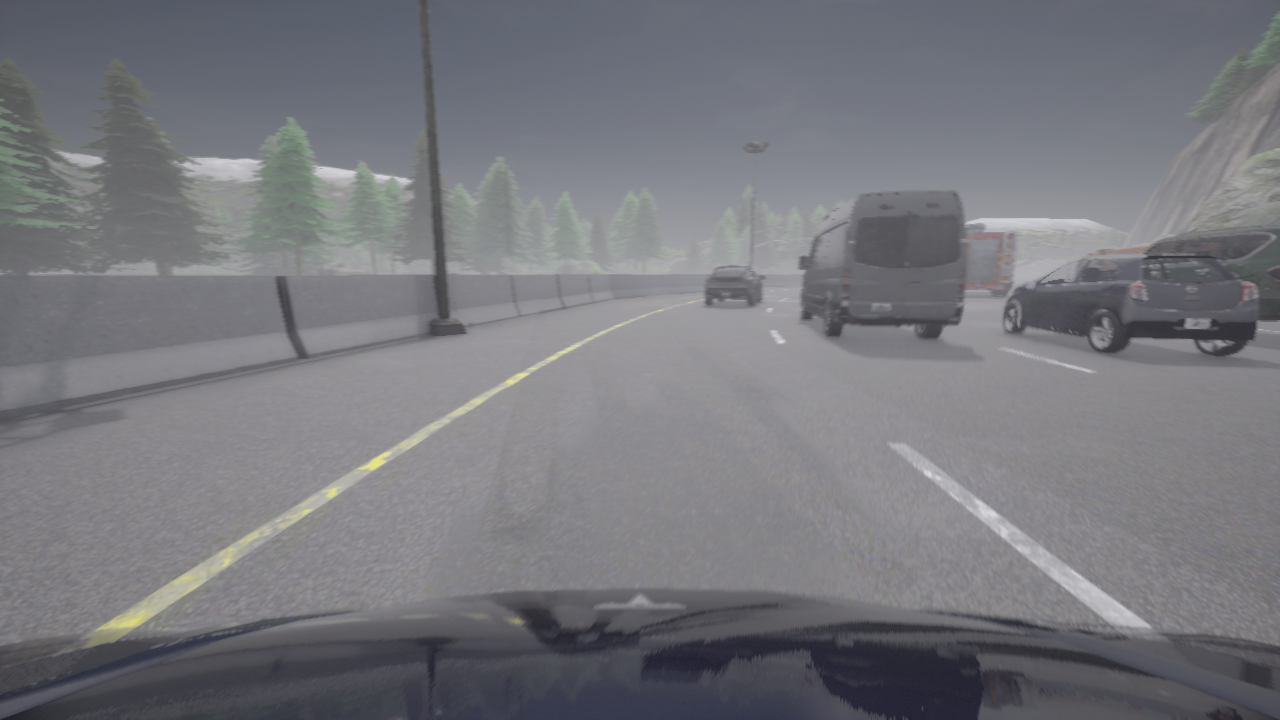cyclist: (0, 588, 1279, 719), (1002, 255, 1257, 356), (799, 191, 966, 339), (1140, 225, 1279, 320), (965, 224, 1017, 296), (705, 266, 764, 306), (801, 275, 804, 281)
